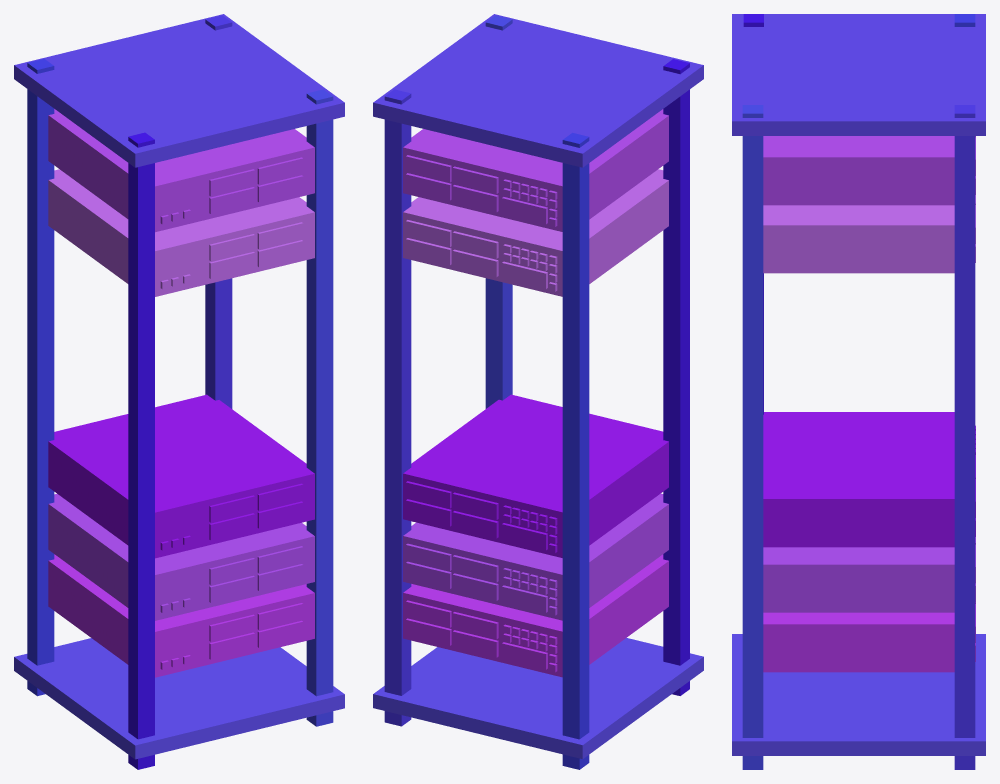
File: server_stand_colored.fbx
The picture shows the model from 3 angles, left to right: view 1: azimuth 30°, elevation 25°; view 2: azimuth 150°, elevation 25°; view 3: azimuth 270°, elevation 25°; orthographic projection. The views are drawn at different scales.
Parts seen in each view (by area): view 1: Cube.011; view 2: Cube.011; view 3: Cube.011.
Boxes of the visible parts, x1,y1,x2,y2 form: Cube.011: [14, 14, 344, 769]; Cube.011: [373, 14, 703, 769]; Cube.011: [732, 14, 985, 769].
Bounding box in the file's own units: 200 × 571 × 200.
